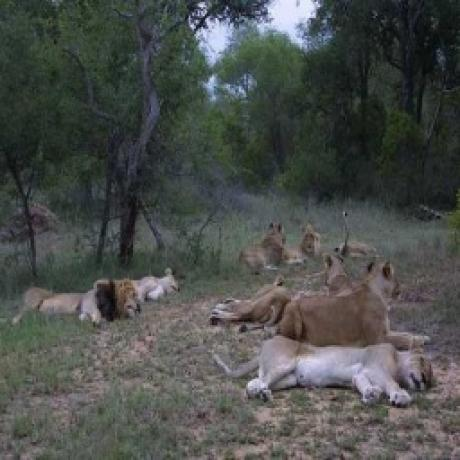Lion: (208, 336, 435, 407), (280, 258, 406, 346), (12, 280, 140, 326), (208, 273, 292, 324), (240, 223, 298, 266), (335, 218, 374, 259), (134, 268, 182, 295), (320, 253, 354, 285), (297, 219, 322, 255)
